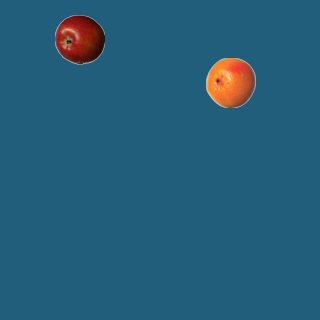Apple Braeburn: (54, 14, 104, 64)
Grapefruit Pink: (205, 57, 255, 107)
